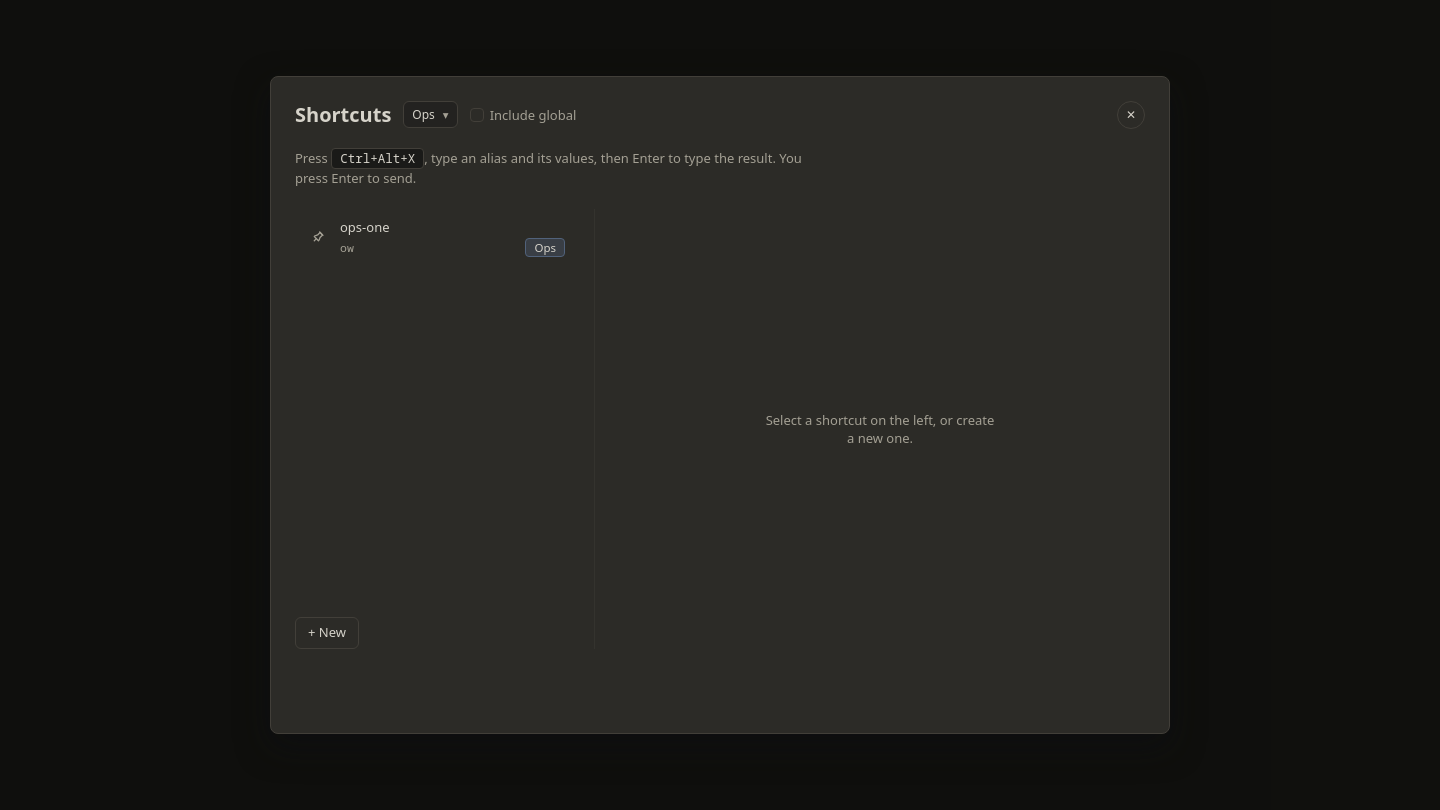
Scenario: ShortcutsDialog scope filter › says there are no global shortcuts when Global is empty
Click the button "Ops ▾".
click(430, 115)  # box [403,101,458,128]
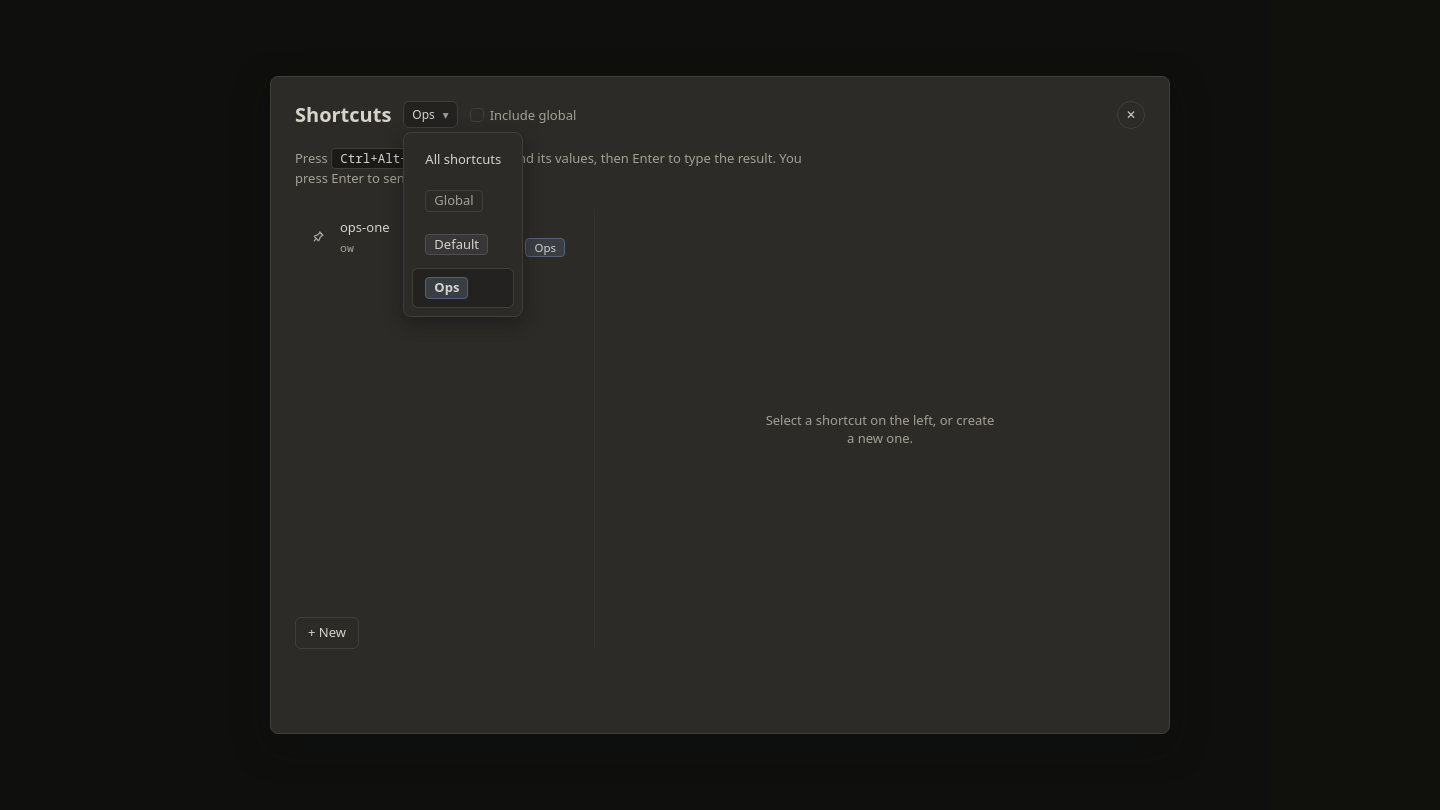
Click the option "Global".
click(463, 201)  # box [412,181,514,221]
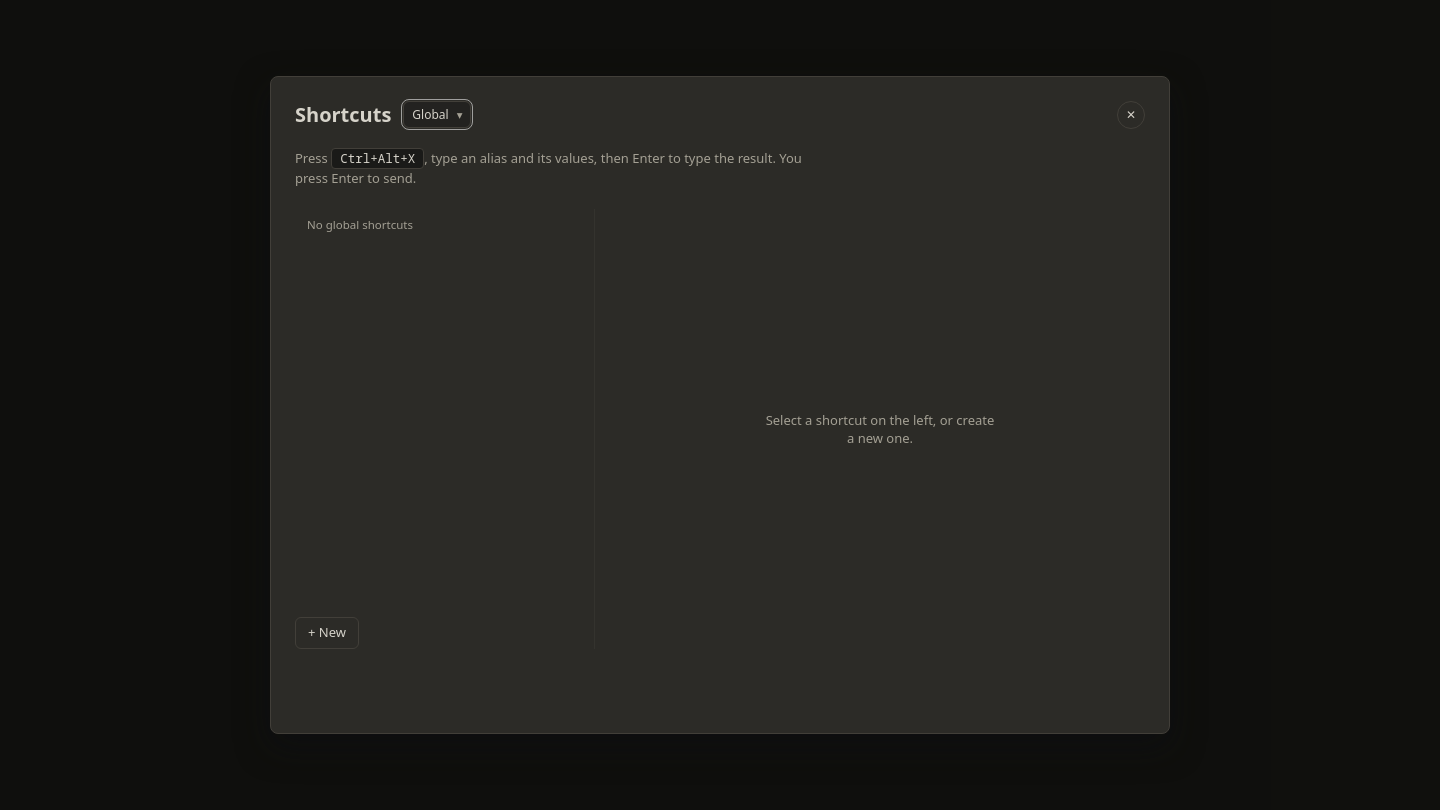
Now the text with test id "shortcuts-empty-scope" reads "No global shortcuts", box [307,217,413,232]
